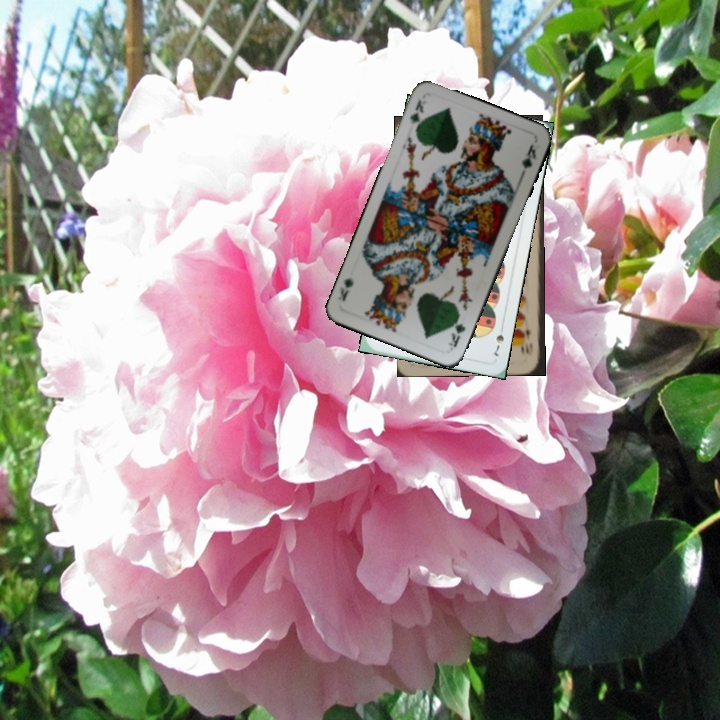E10: (520, 325, 535, 358)
GK: (406, 96, 430, 135), (445, 319, 468, 351)
S7: (490, 320, 507, 359)
